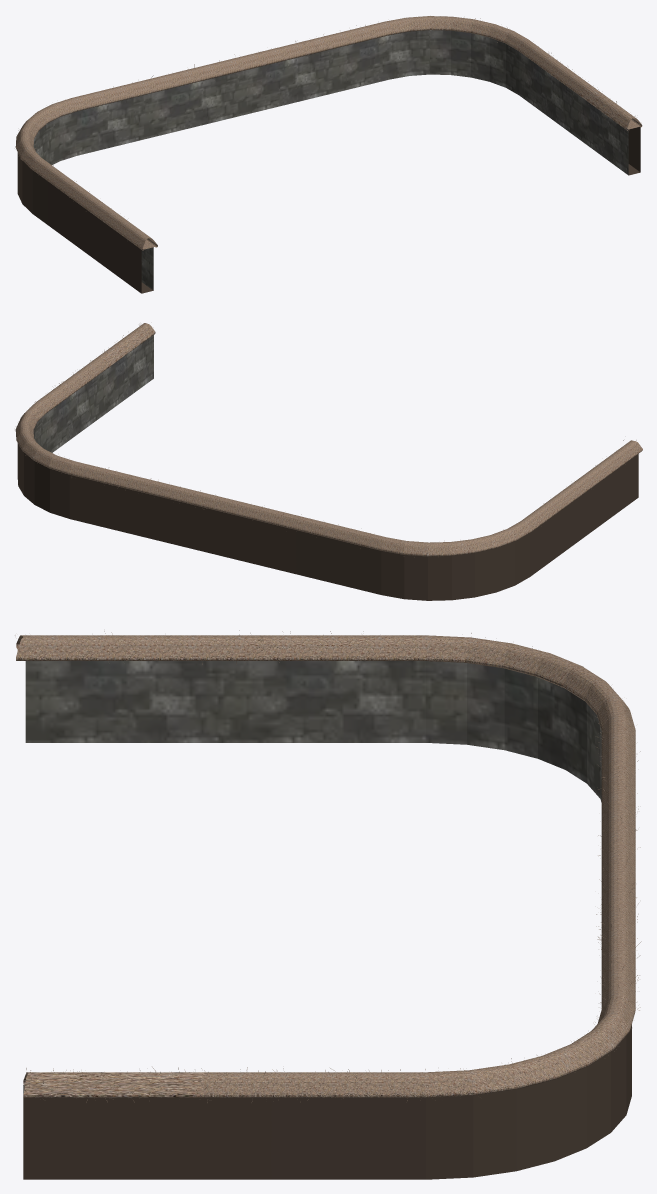
The model's file is yardwall.glb.
3 views of the same model, one above another, from view 1: azimuth 30°, elevation 25°; view 2: azimuth 150°, elevation 25°; view 3: azimuth 270°, elevation 25° (orthographic). The views are drawn at different scales.
Visible parts, largest first — view 1: prefab; view 2: prefab; view 3: prefab.
Boxes of the visible parts, x1,y1,x2,y2 form: prefab: (15, 16, 642, 293); prefab: (15, 323, 642, 600); prefab: (15, 630, 641, 1179).
Bounding box in the file's own units: 23.74 × 2.64 × 13.86.
2 materials, 2 textured.
